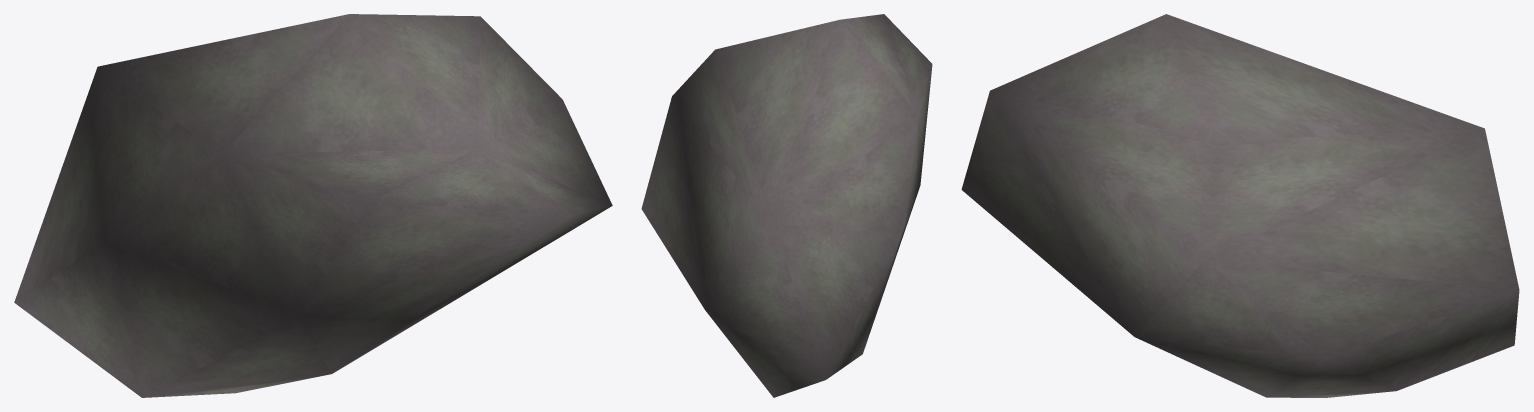
File: Stones_6.fbx
The picture shows the model from 3 angles, left to right: view 1: azimuth 30°, elevation 25°; view 2: azimuth 150°, elevation 25°; view 3: azimuth 270°, elevation 25°; orthographic projection. The views are drawn at different scales.
Parts seen in each view (by area): view 1: Stones.006; view 2: Stones.006; view 3: Stones.006.
Boxes of the visible parts, x1=… form: Stones.006: x1=14, y1=14, x2=612, y2=397; Stones.006: x1=641, y1=14, x2=932, y2=397; Stones.006: x1=961, y1=14, x2=1519, y2=397.
Size of the model in its own units: 19.4 by 19.75 by 25.3.
